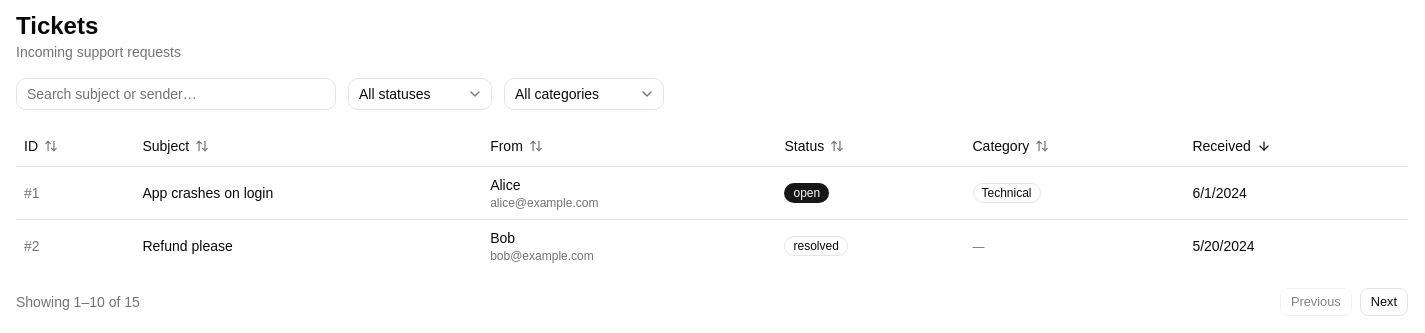
Test case: TicketsPage › disables Next on the last page
Expected: the element with test id "pagination" is shown, [16, 288, 1408, 316]
Click the button with test id "pagination-next".
click(1384, 302)  # box [1360, 288, 1408, 316]
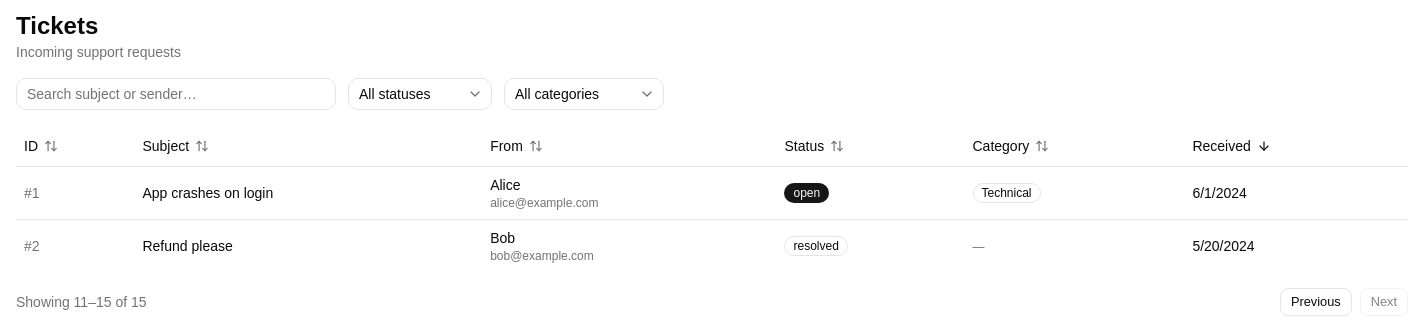
Expected: the element with test id "pagination" is shown, [16, 288, 1408, 316]
Result: the button with test id "pagination-next" is disabled at [1360, 288, 1408, 316]
Result: the button with test id "pagination-prev" is enabled at [1280, 288, 1352, 316]
